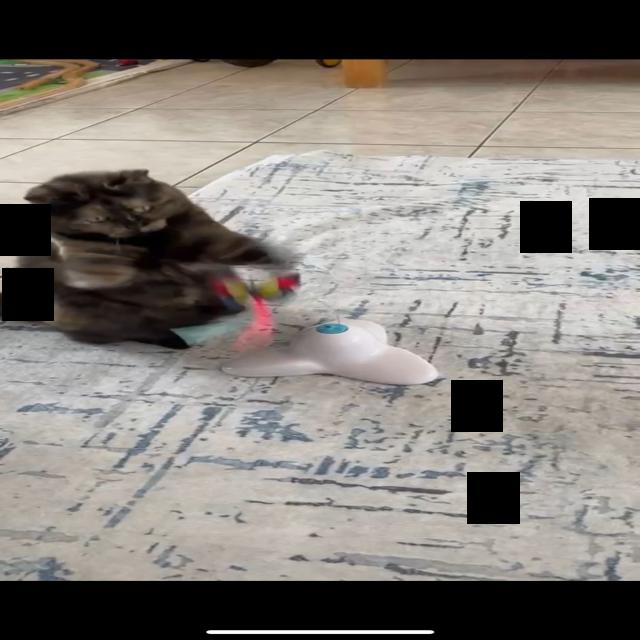authorized: (1, 168, 281, 350)
